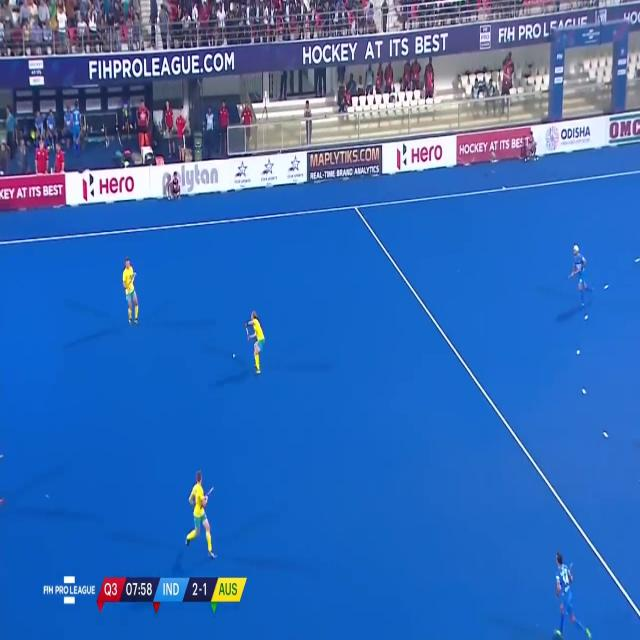ball: (232, 348, 237, 360)
